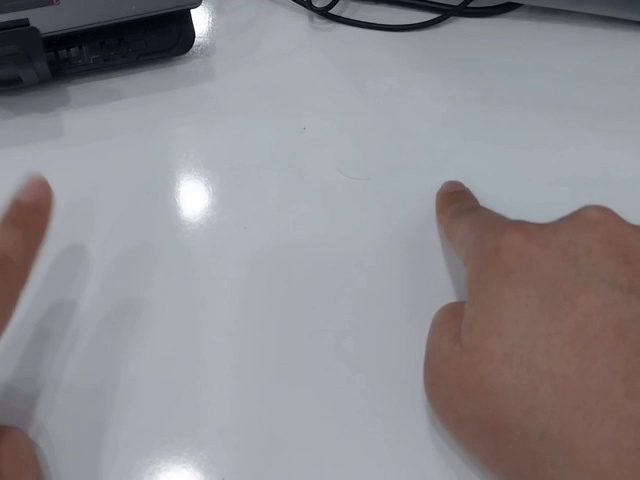fingers: (8, 173, 55, 231), (435, 178, 482, 222)
